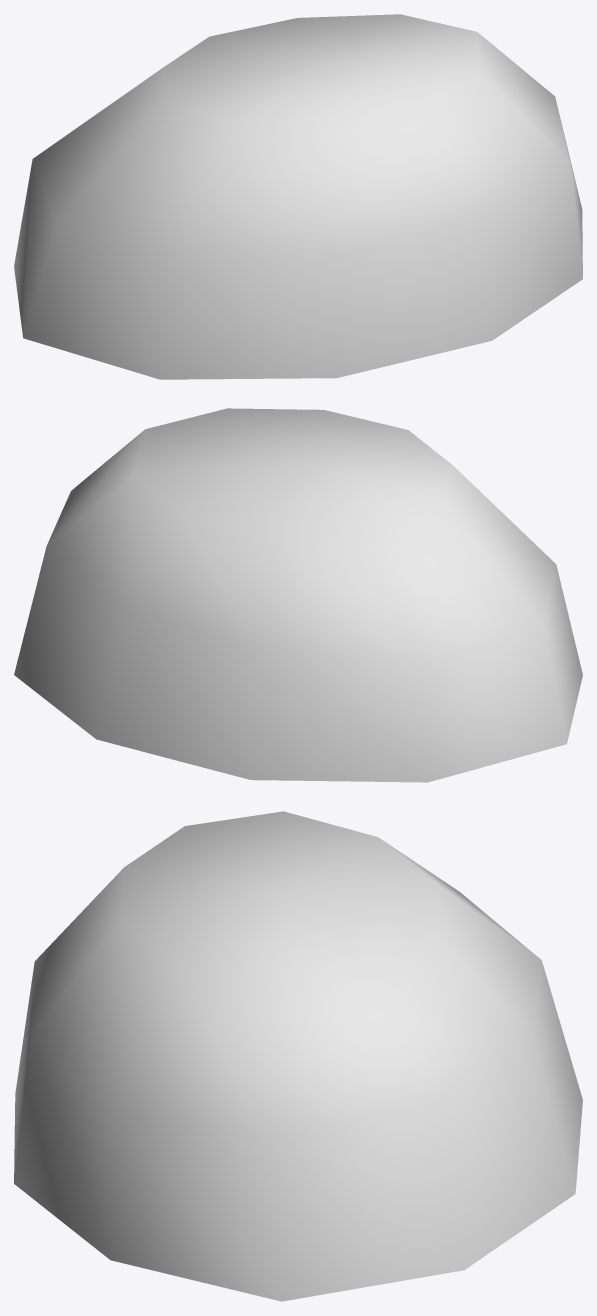
The model's file is item_rm_uranium_b.obj.
3 renders of one model, top to bottom at view 1: azimuth 30°, elevation 25°; view 2: azimuth 150°, elevation 25°; view 3: azimuth 270°, elevation 25°, orthographic. The views are drawn at different scales.
Parts seen in each view (by area): view 1: item_rm_uranium_b; view 2: item_rm_uranium_b; view 3: item_rm_uranium_b.
Part boxes in pixels (<box>): item_rm_uranium_b: <box>14,14,582,379</box>; item_rm_uranium_b: <box>14,408,582,782</box>; item_rm_uranium_b: <box>14,811,582,1301</box>.
Bounding box in the file's own units: 0.7263 × 0.2668 × 0.544.
